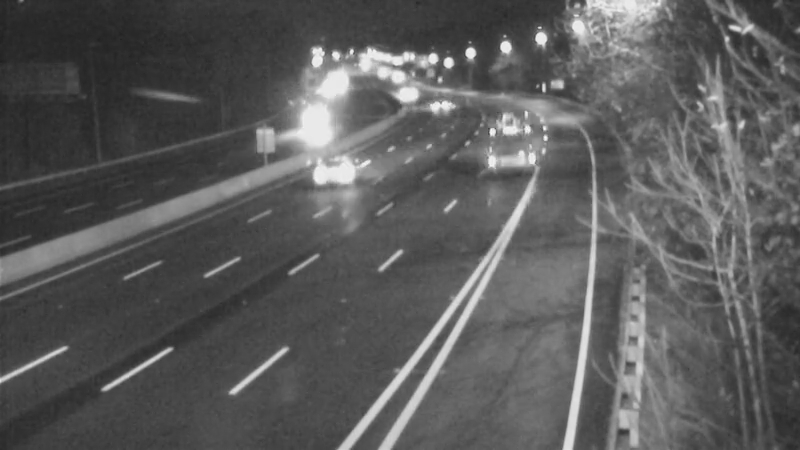vehicle: (288, 134, 368, 214), (378, 65, 428, 115), (418, 77, 468, 127), (482, 114, 532, 164), (289, 98, 339, 148)
